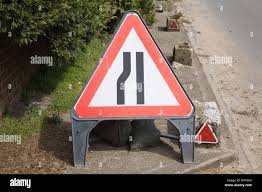narrow-road: (73, 12, 190, 114)
